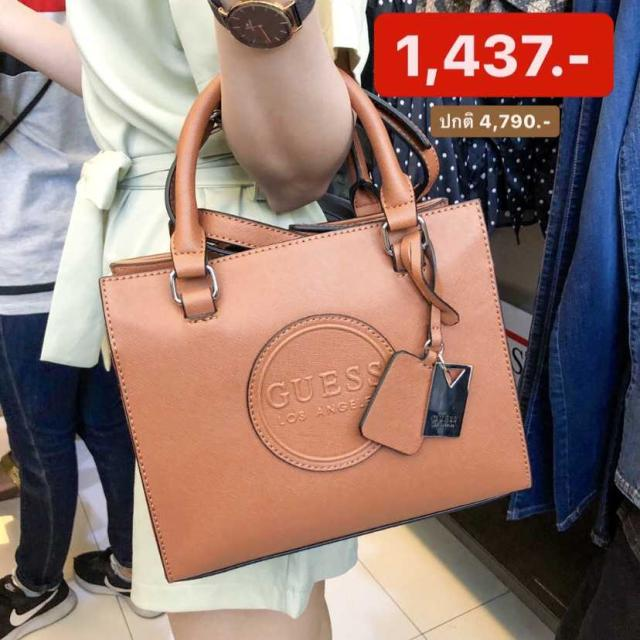handbag: (92, 187, 544, 586)
